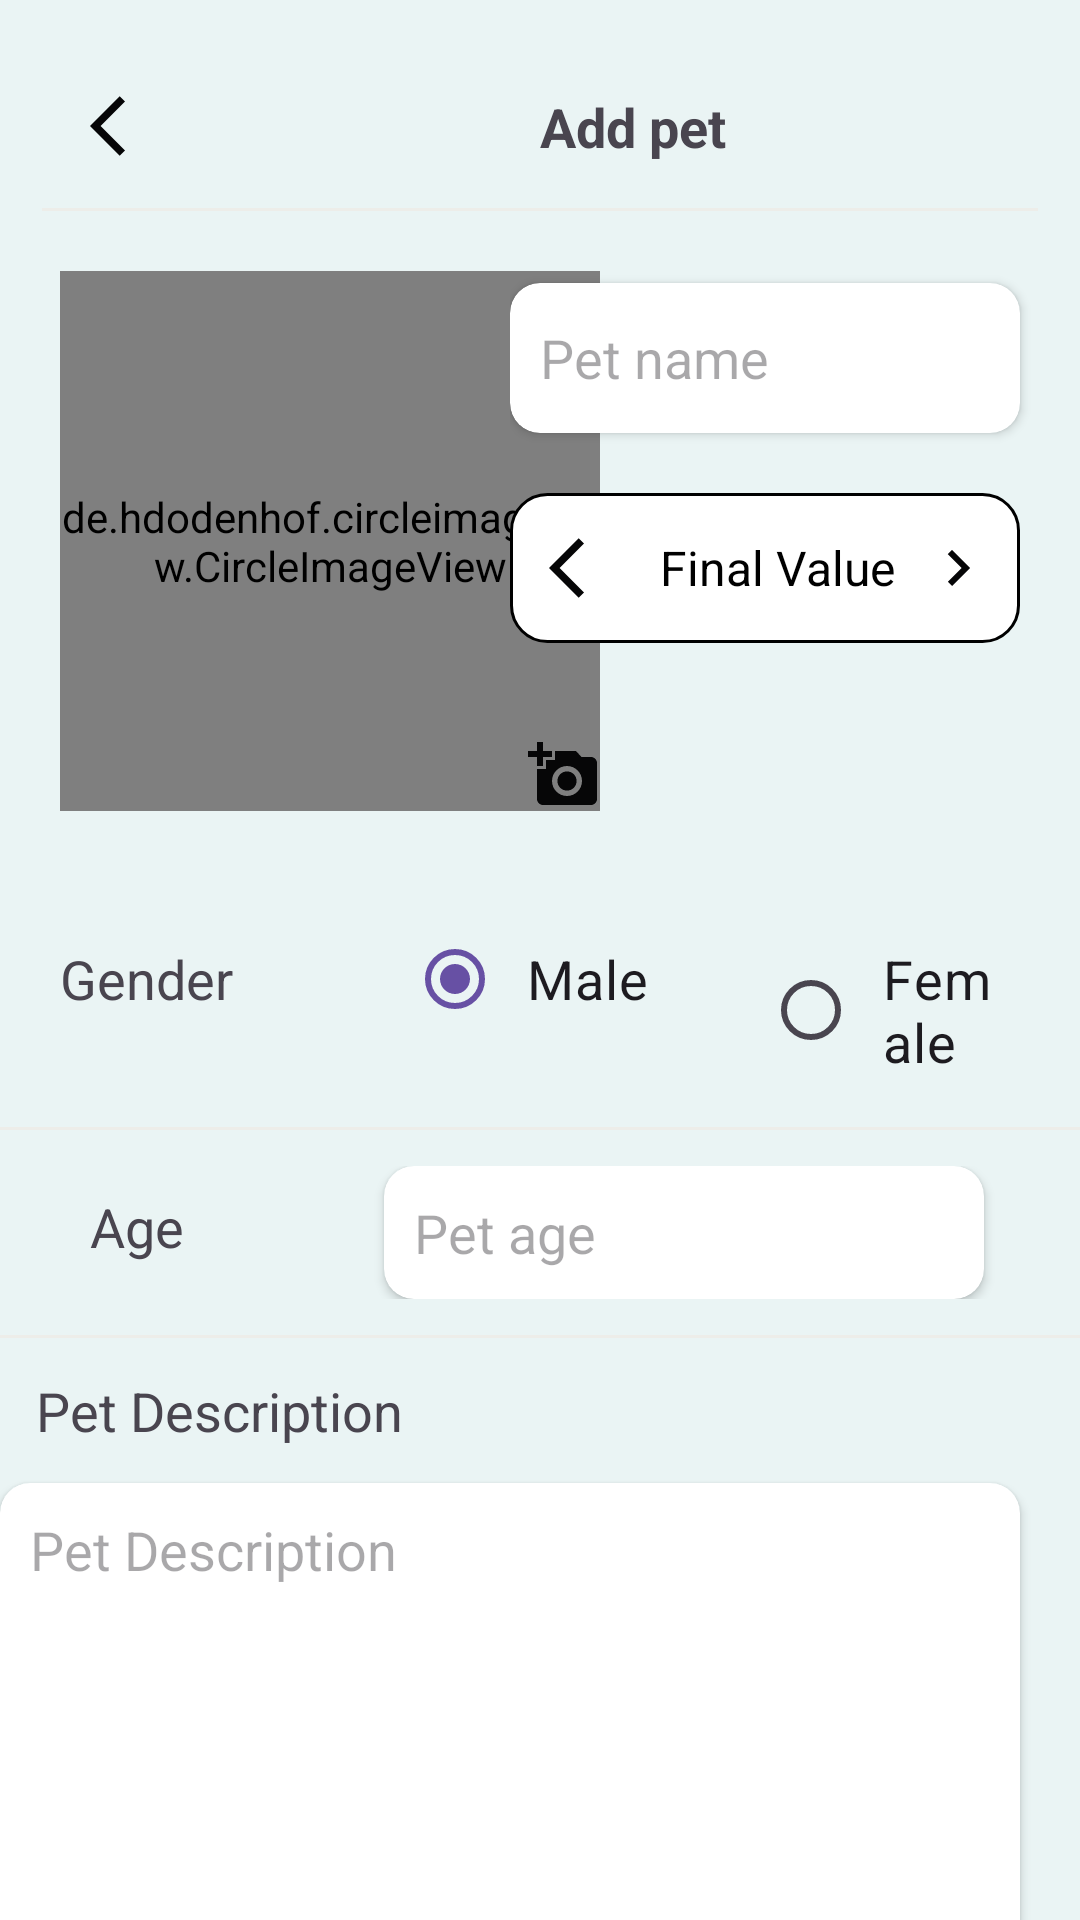

Named icons in this screenshot (1080×1920) and their bounding boxes, rect(x1, y1, x2, y2):
add photo: rect(528, 742, 597, 805)
arrow back: rect(90, 96, 125, 156), rect(549, 538, 584, 598)
arrow right: rect(948, 550, 970, 586)
